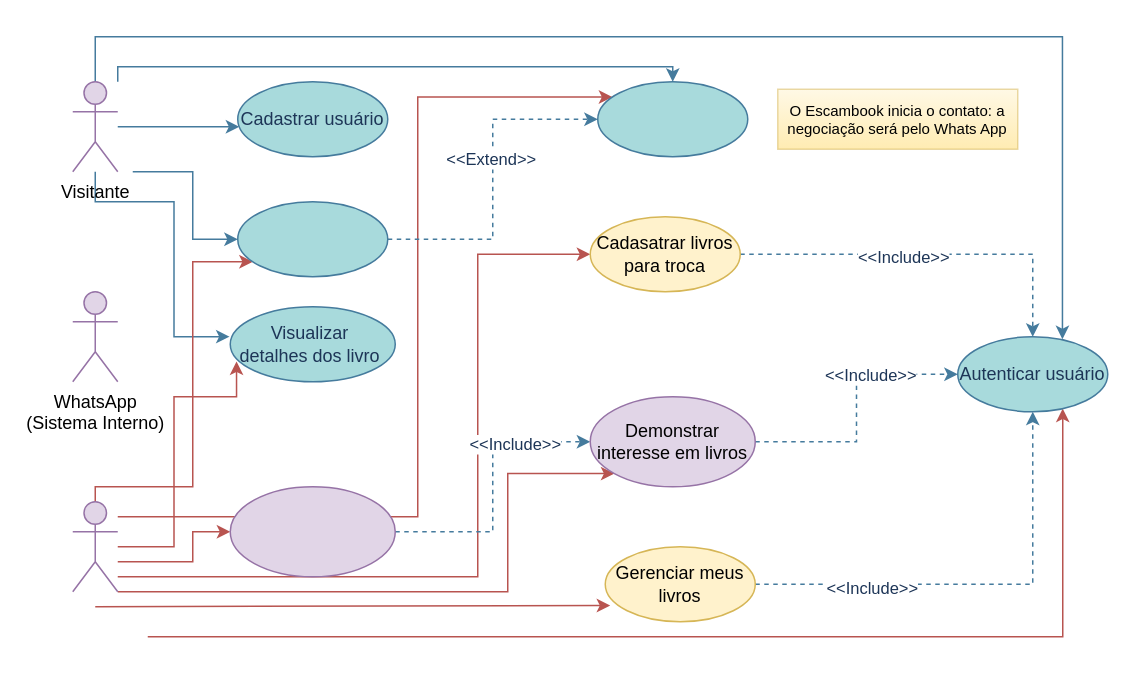
The diagram is 1134 pixels wide and 675 high, and some of its shapes have lost their labels. The centre of each missing label's shape, as x and y in pixels:
Consultar livros disponíveis: [672,118]
Filtrar livro por categoria: [312,238]
Iniciar negociação pelo Whats: [312,531]
Usuário Cadastrado: [94,546]
